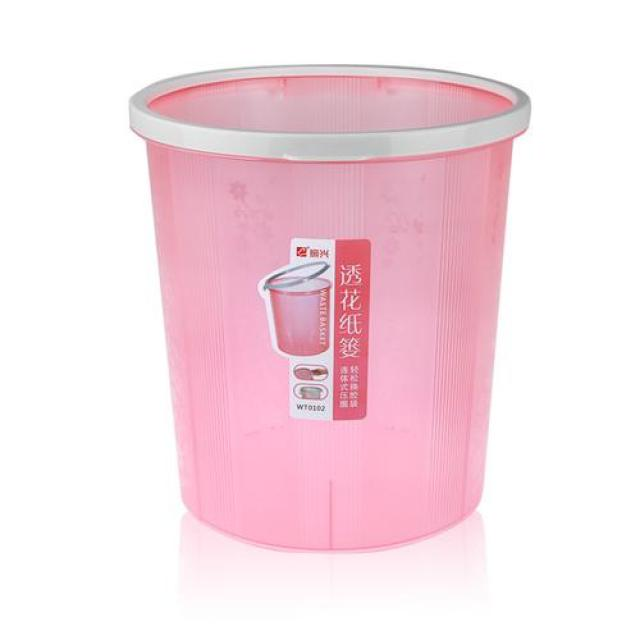dustbin: (117, 57, 538, 562), (118, 55, 536, 559)
